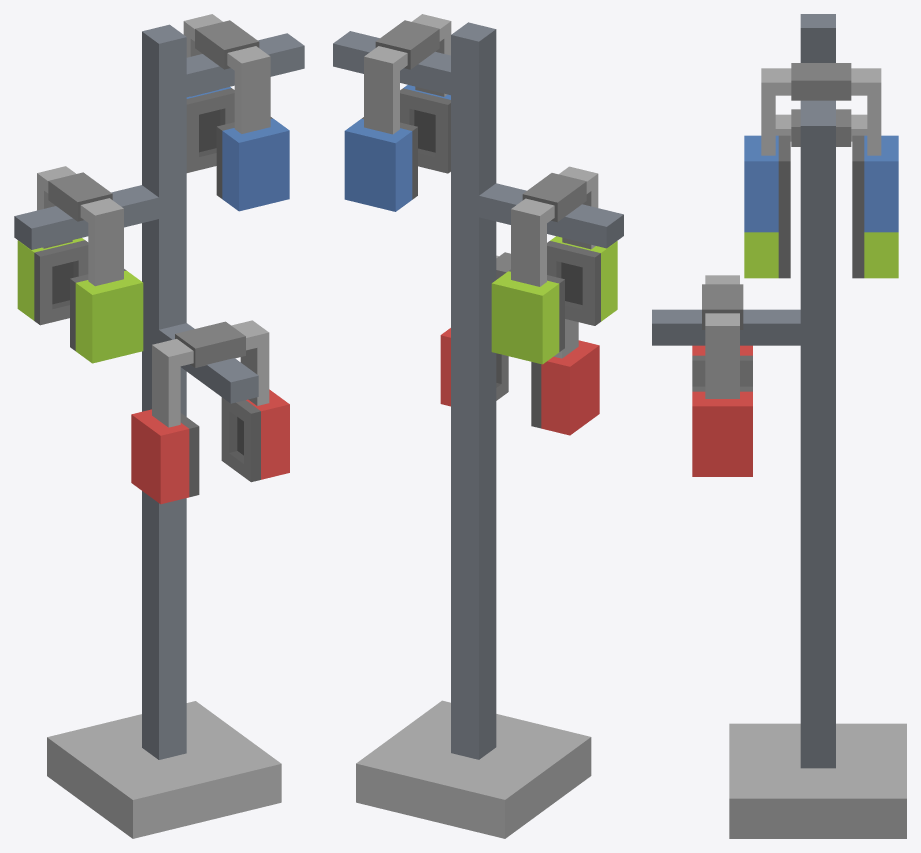
File: HeadPhoneStand.glb
3 renders of one model, left to right at view 1: azimuth 30°, elevation 25°; view 2: azimuth 150°, elevation 25°; view 3: azimuth 270°, elevation 25°, orthographic. The views are drawn at different scales.
Visible parts, largest first — view 1: SI_Prop_HeadPhoneStand; view 2: SI_Prop_HeadPhoneStand; view 3: SI_Prop_HeadPhoneStand.
Boxes of the visible parts, x1,y1,x2,y2 form: SI_Prop_HeadPhoneStand: [14, 14, 304, 838]; SI_Prop_HeadPhoneStand: [333, 14, 623, 838]; SI_Prop_HeadPhoneStand: [652, 14, 906, 838].
Size of the model in its own units: 0.00931 by 0.0246 by 0.00728.
1 material, 1 textured.
